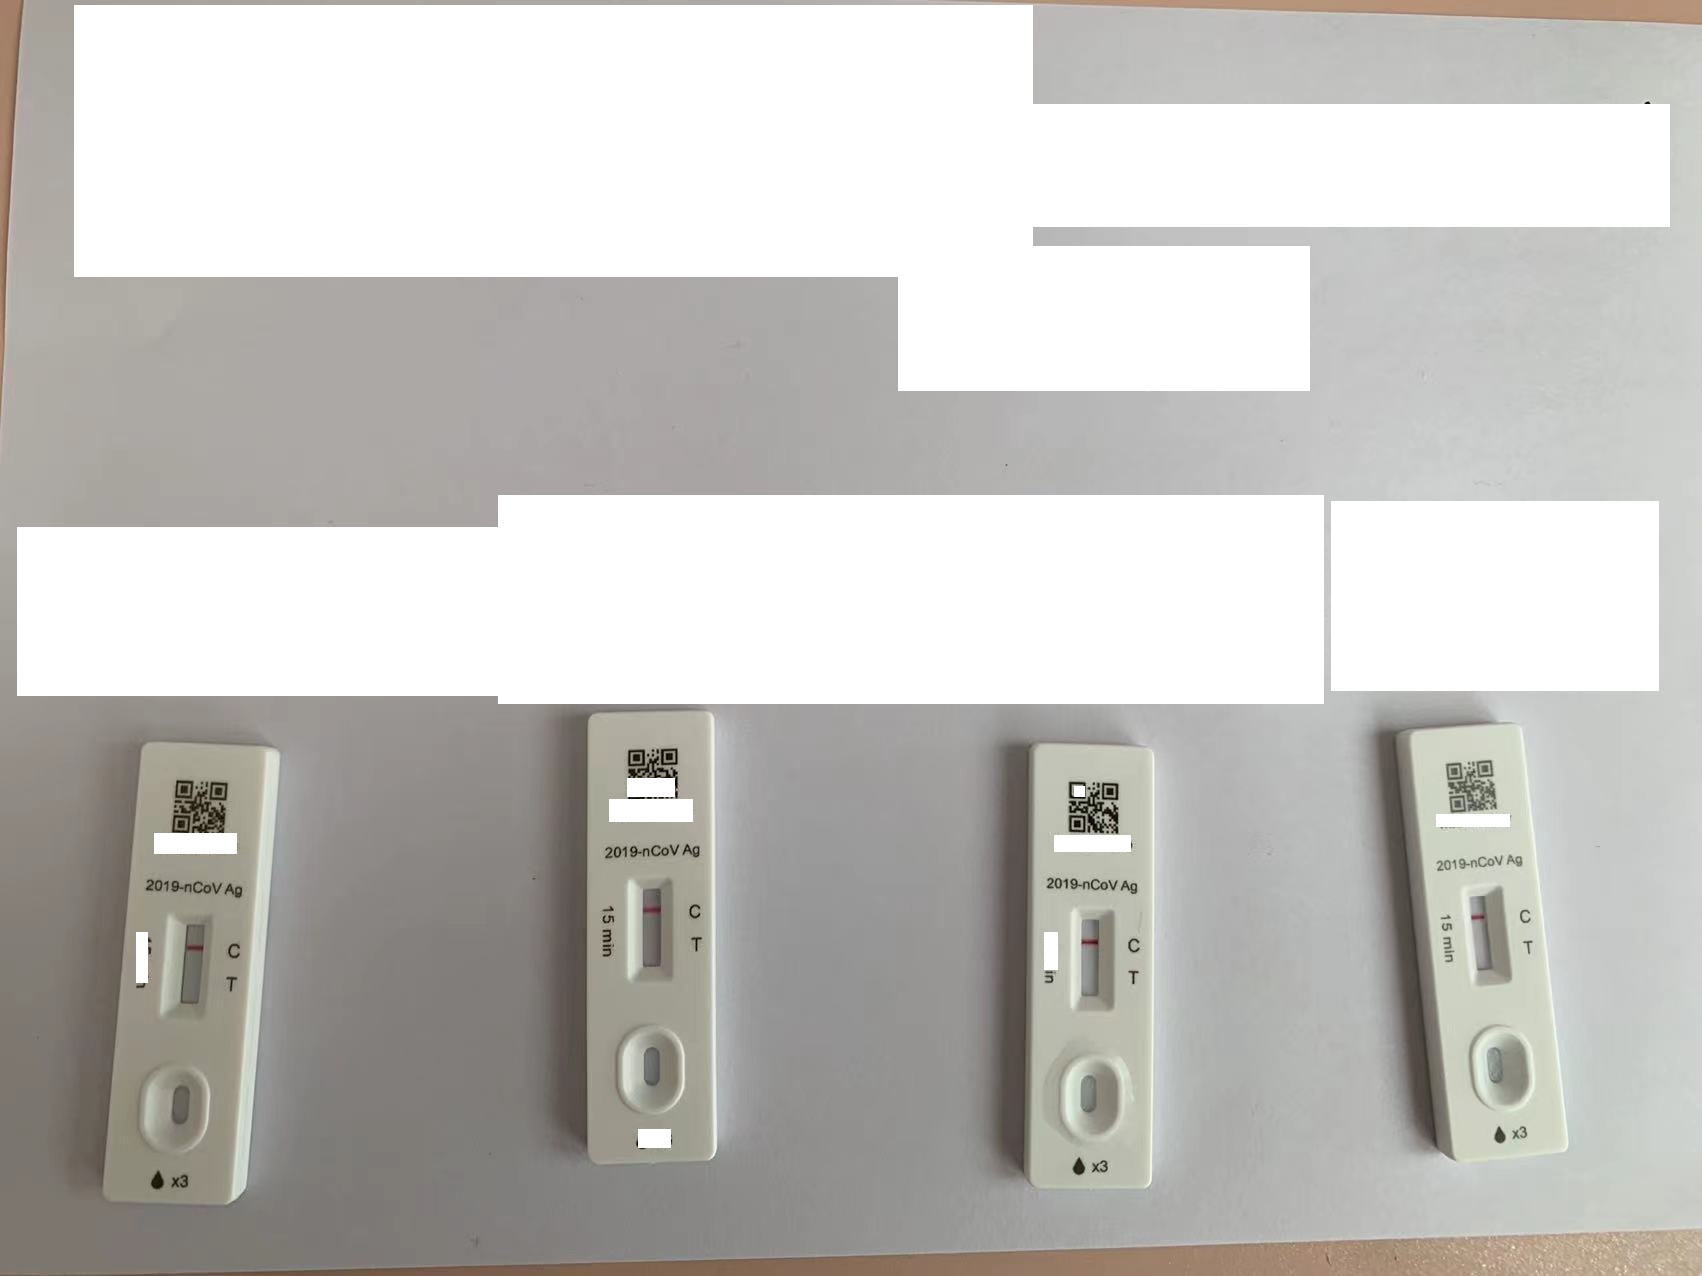negative: (162, 914, 206, 1015), (1073, 910, 1110, 1012)
